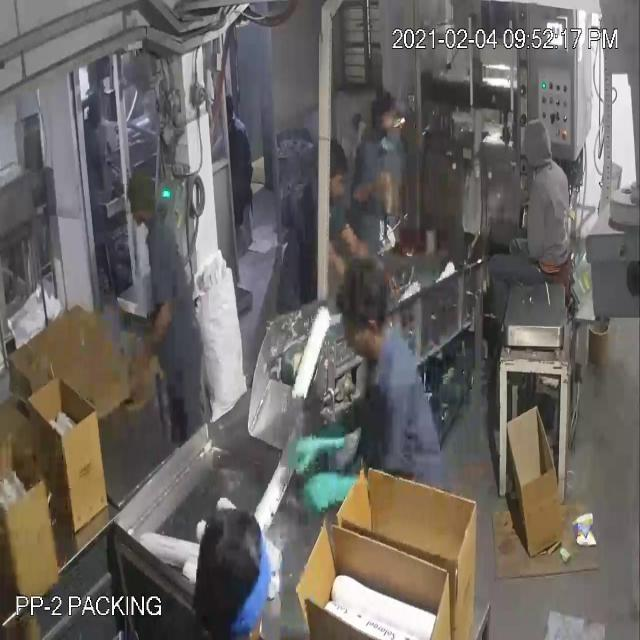Gloves: (32, 39, 371, 496)
